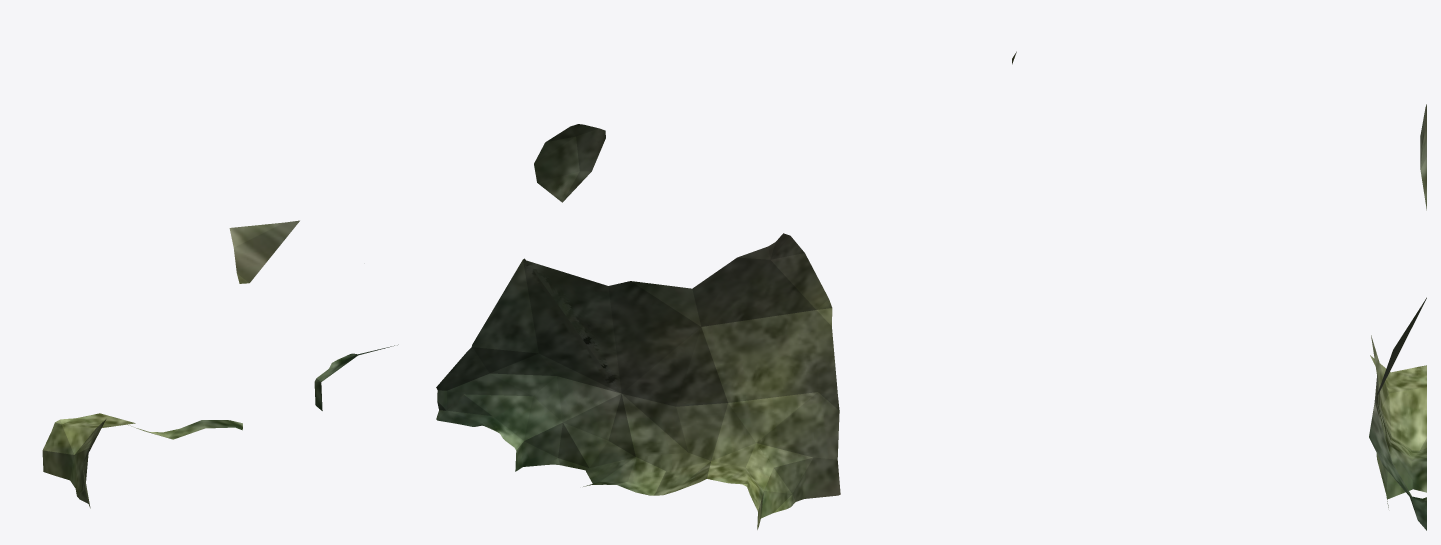
3 views of the same model, side by side, from view 1: azimuth 30°, elevation 25°; view 2: azimuth 150°, elevation 25°; view 3: azimuth 270°, elevation 25° (orthographic). The views are drawn at different scales.
Size of the model in its own units: 2.95 by 2.95 by 2.95.
Materials: 2 (2 with a texture image).
